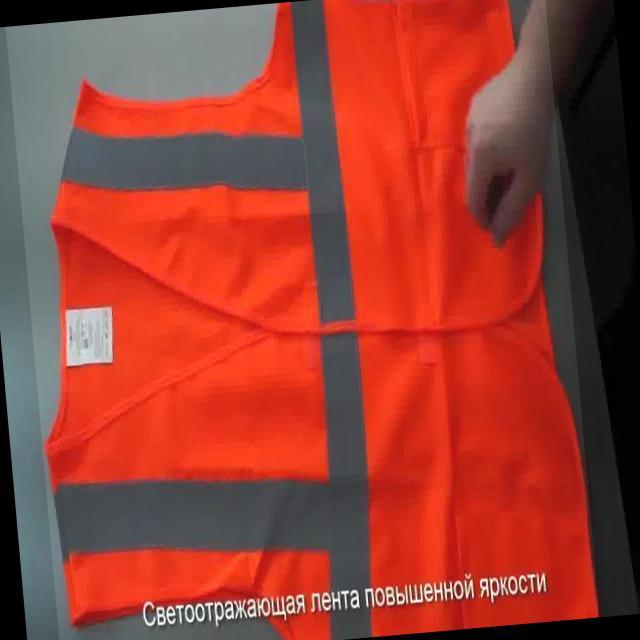Safety Vest: (5, 0, 598, 640)
